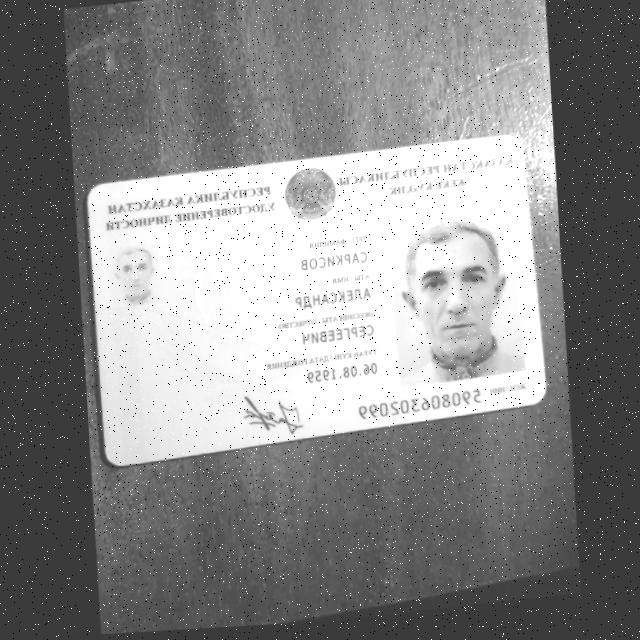card: (88, 136, 544, 466)
